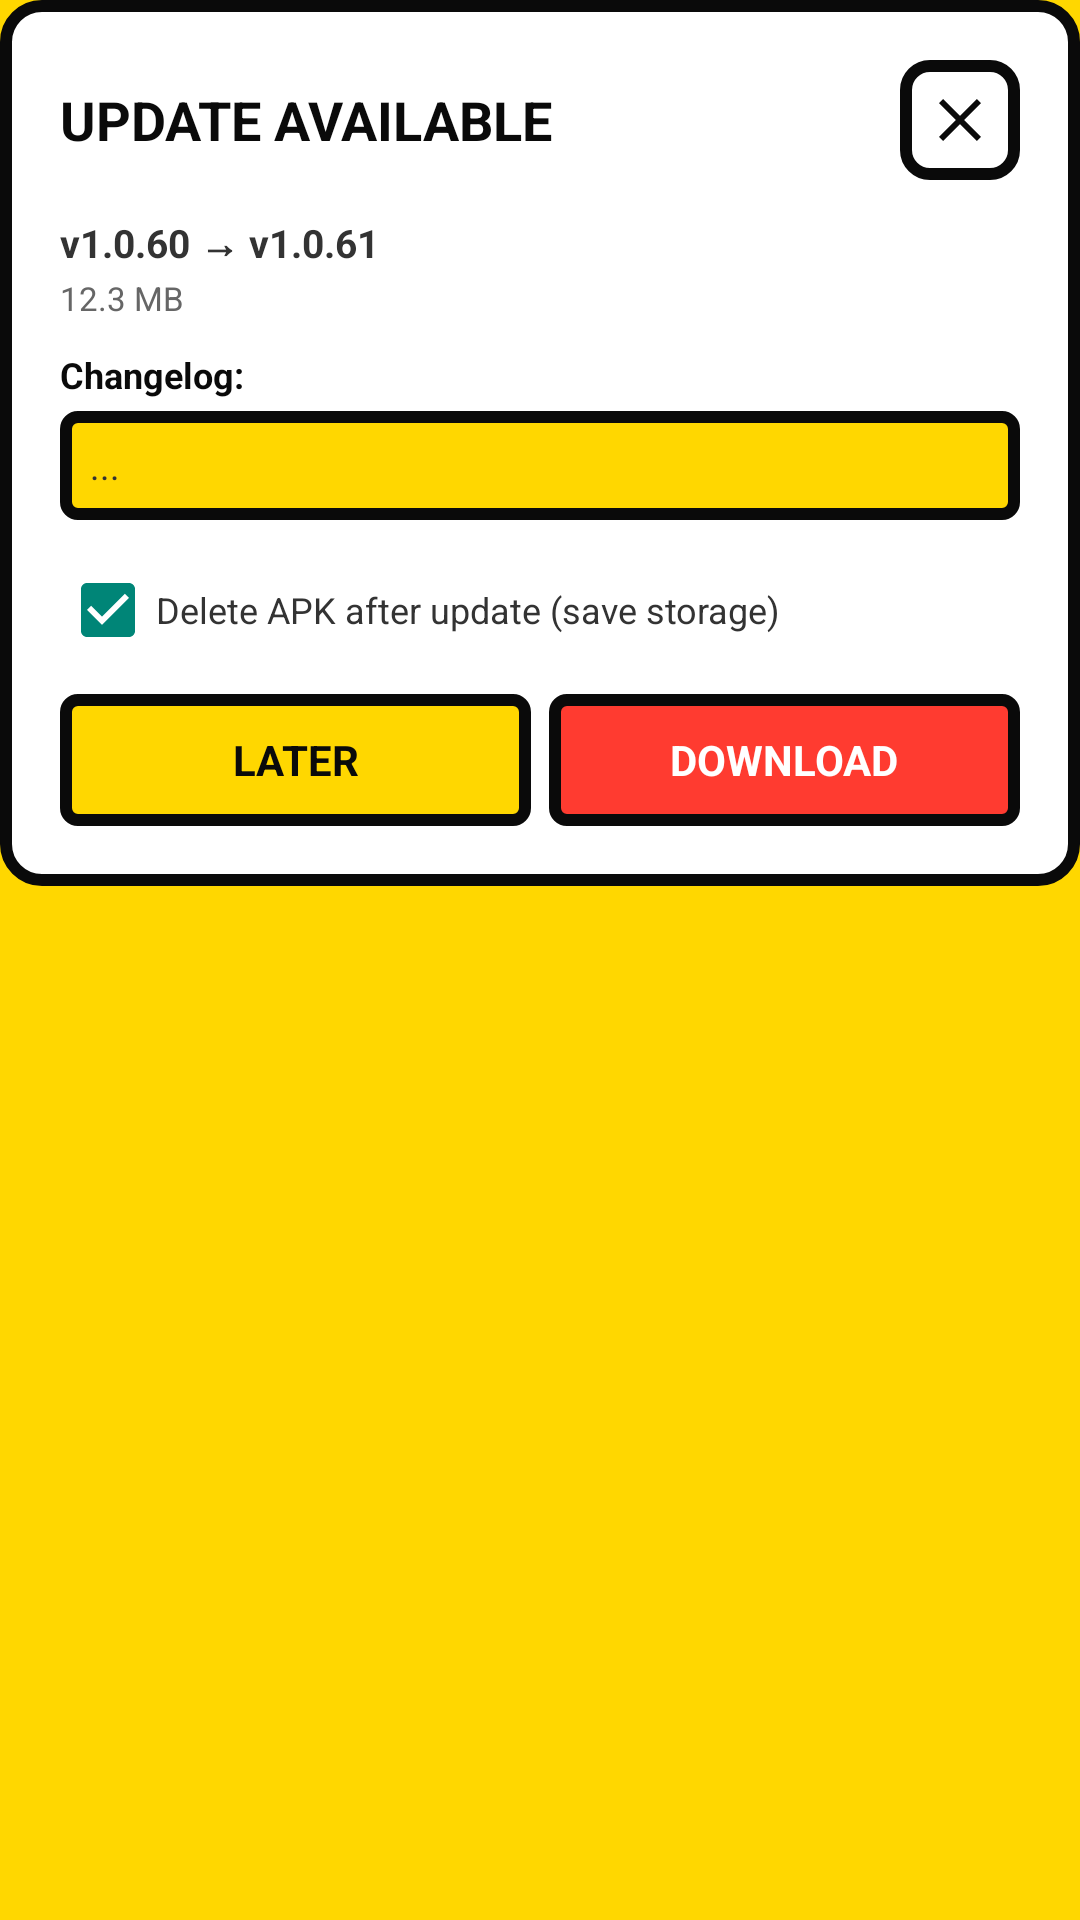

Screen size 1080 x 1920. Icon name, then its center in pixels as [x,y]:
Close: [960,120]
